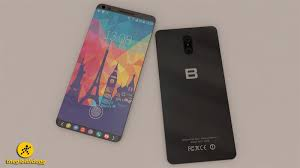bphone: (152, 24, 239, 166)
